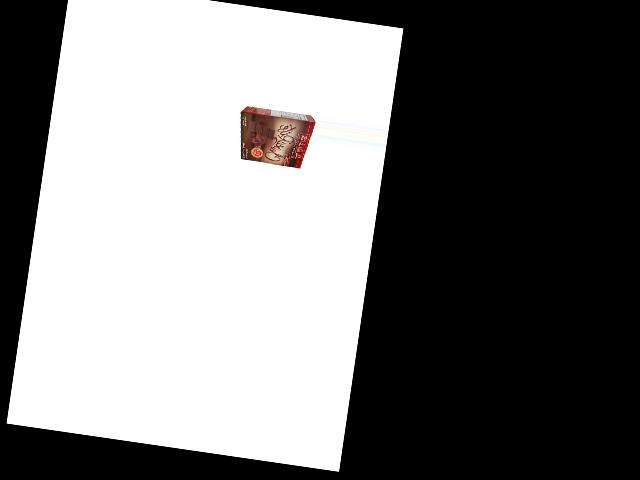chocolate: (233, 105, 314, 170)
